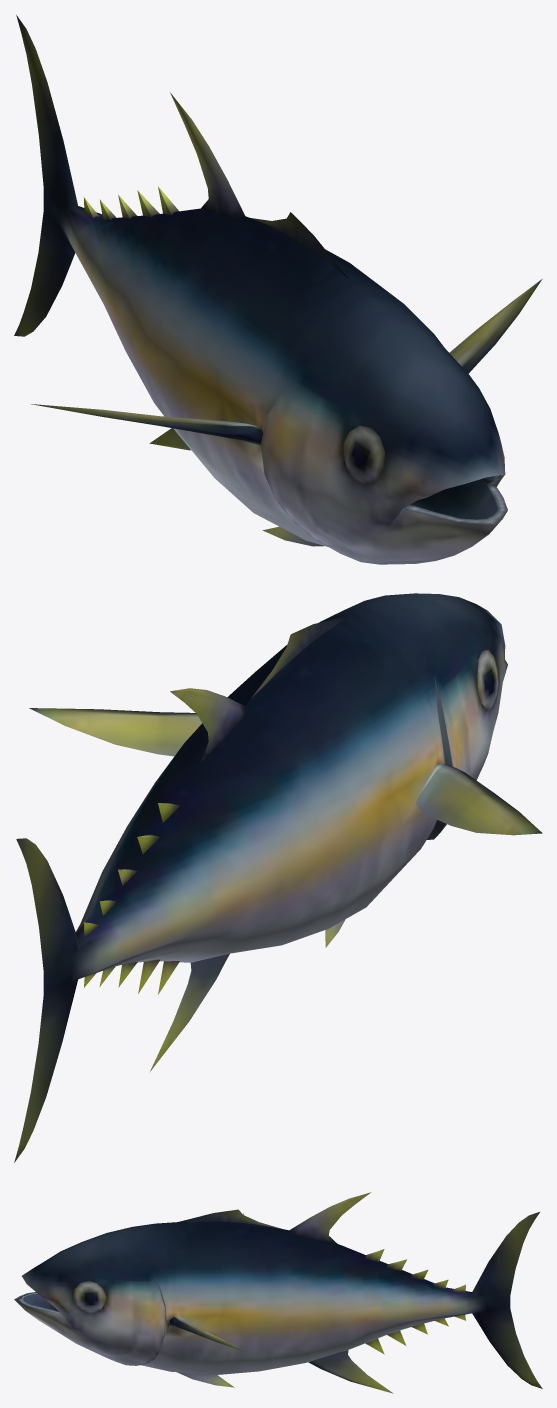
The model's file is tuna.glb.
3 views of the same model, one above another, from view 1: azimuth 30°, elevation 25°; view 2: azimuth 150°, elevation 25°; view 3: azimuth 270°, elevation 25° (orthographic). The views are drawn at different scales.
Size of the model in its own units: 12.61 by 8.6 by 20.43.
Materials: 1 (1 with a texture image).
